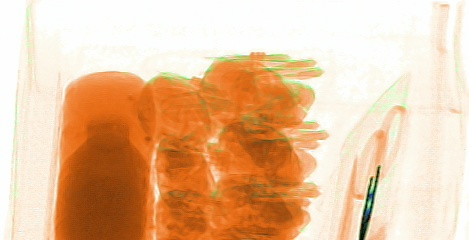scissors: (349, 101, 406, 239)
